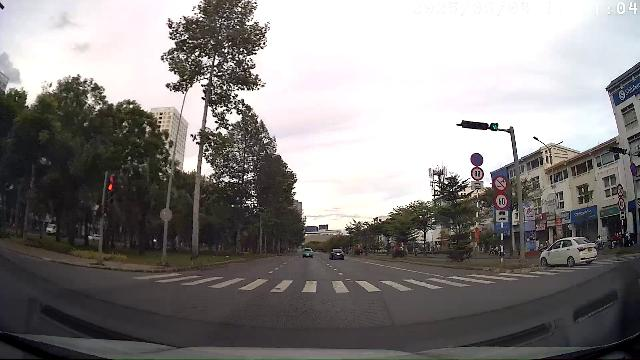127-toc-do-toi-da-60: (494, 193, 509, 209), (618, 197, 625, 210)
127-toc-do-toi-da-80: (471, 167, 484, 181)
130-cam-dung-va-do-xe: (470, 153, 484, 166), (630, 162, 638, 176)
